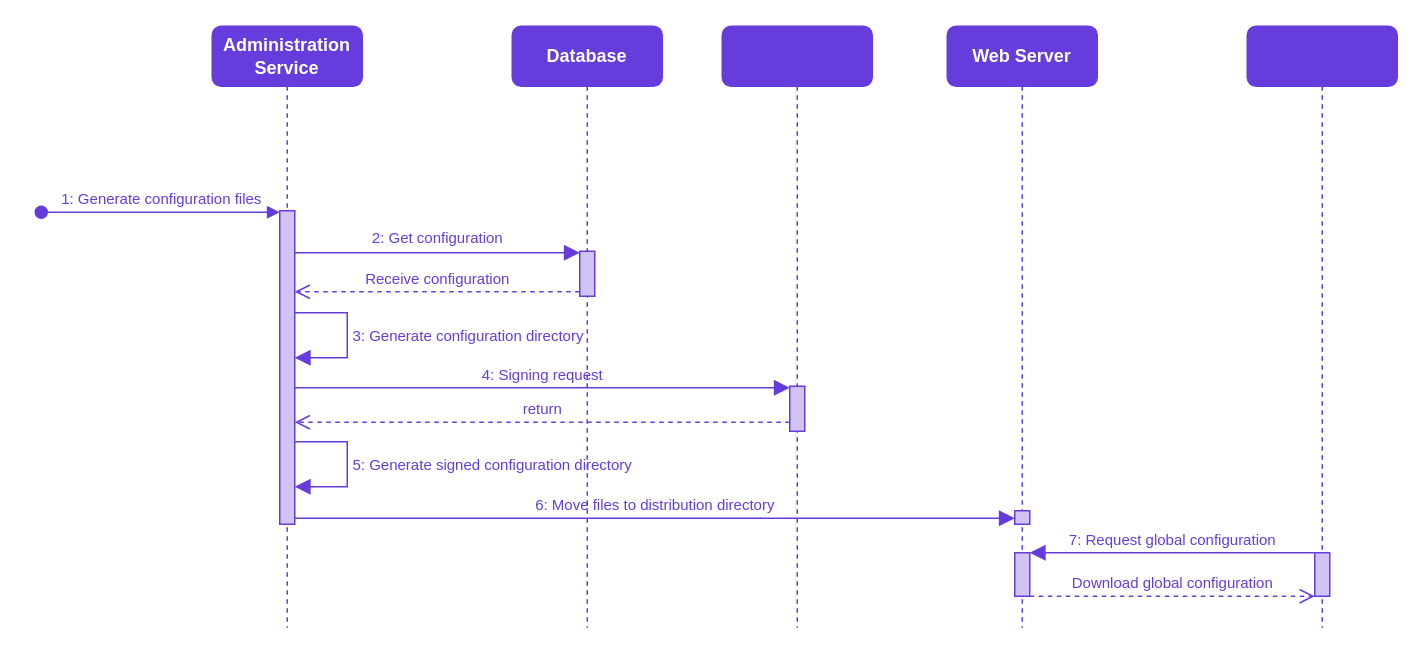
This 1424x654 diagram has some shape labels left out. Each missing label, with the box of its shape:
Configuration Client: (1246, 25, 1397, 628)
Signer: (721, 25, 872, 628)
